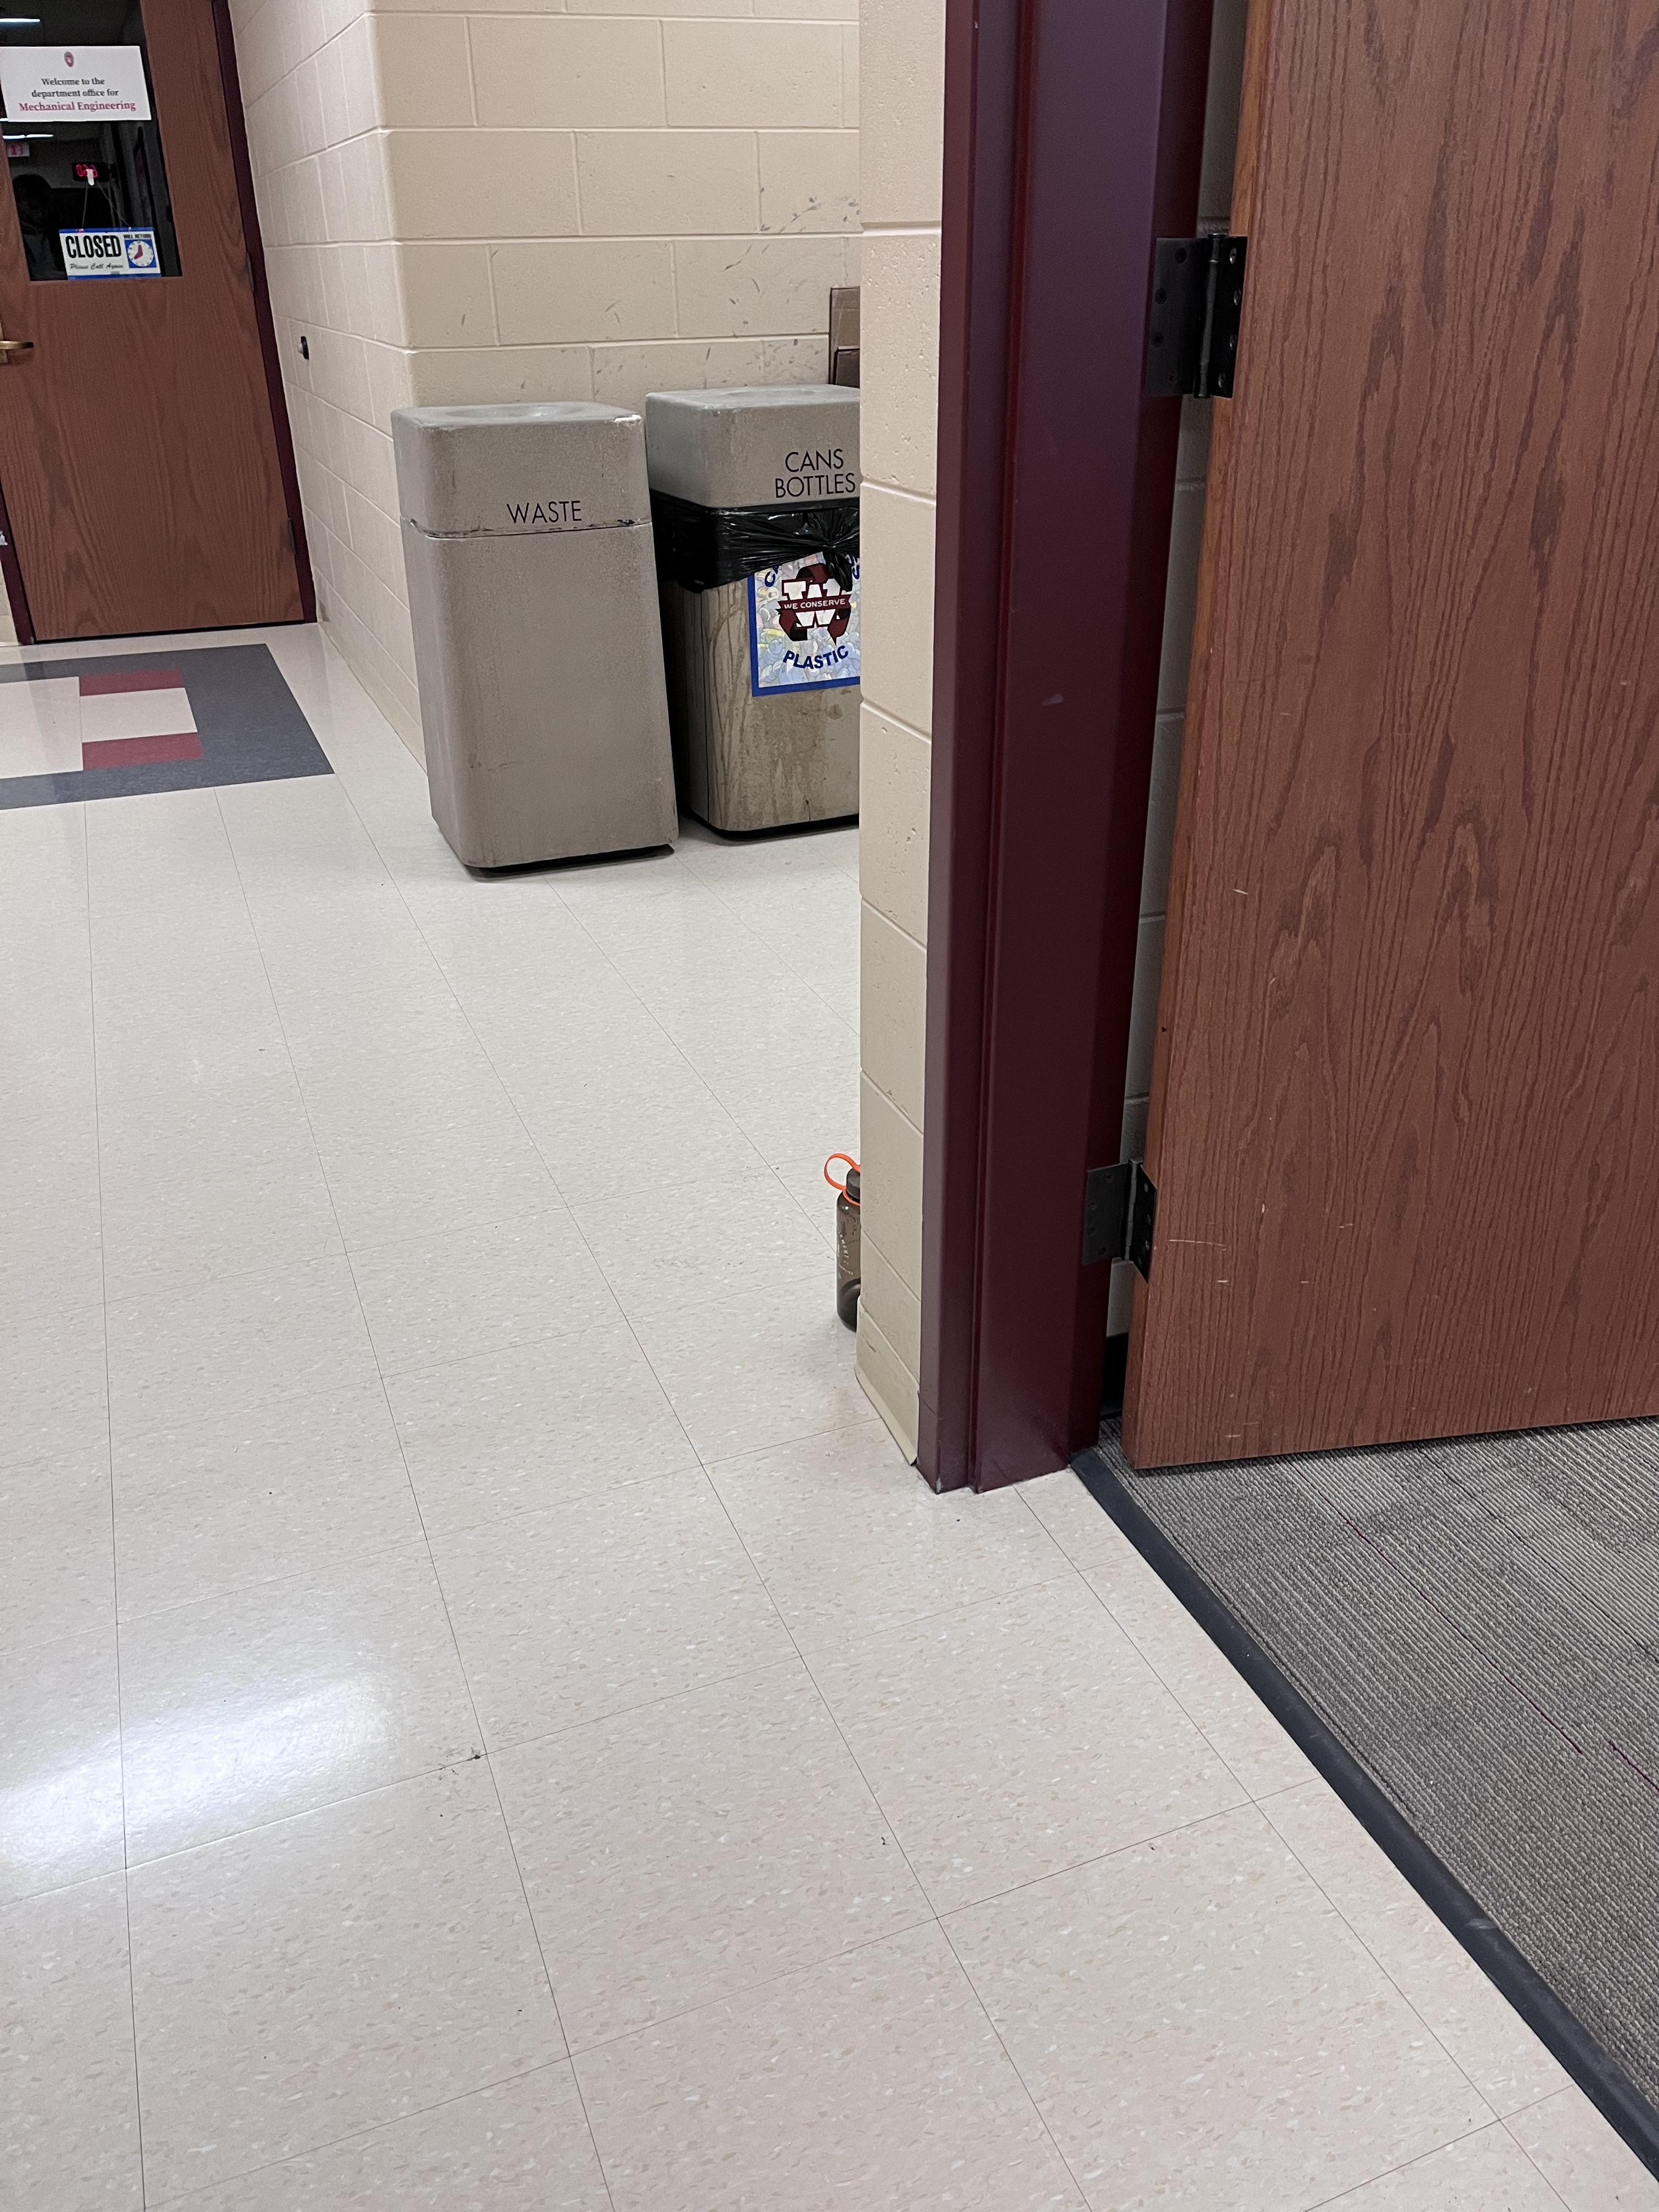bottle: (819, 1144, 864, 1336)
